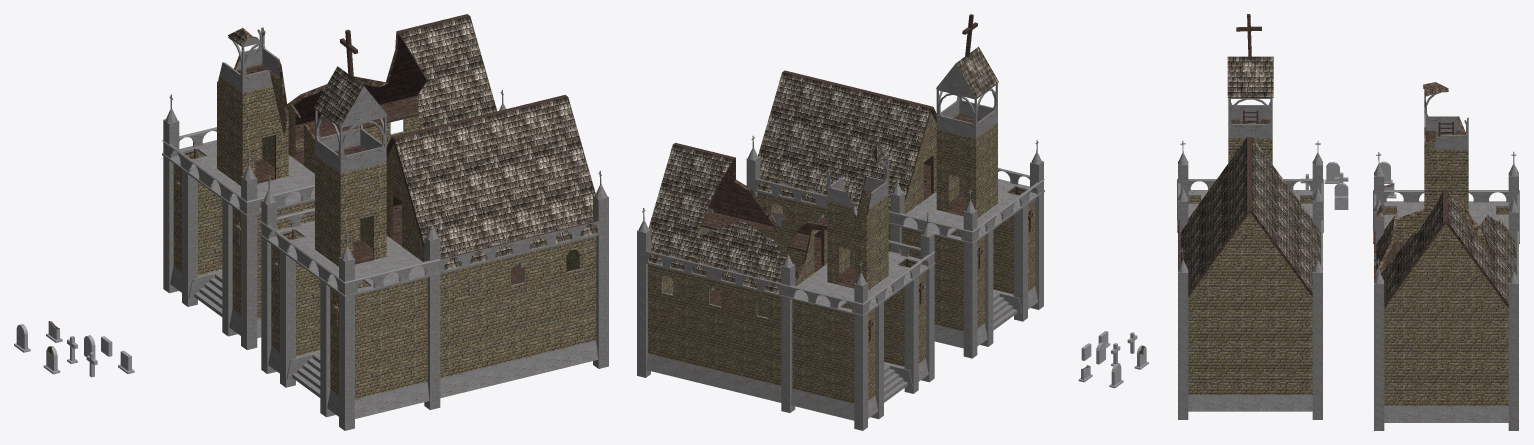
Rendered from Low-Poly_Church.glb.
3 views of the same model, side by side, from view 1: azimuth 30°, elevation 25°; view 2: azimuth 150°, elevation 25°; view 3: azimuth 270°, elevation 25° (orthographic). The views are drawn at different scales.
Visible parts, largest first — view 1: OldChurch1_Horror_Wall_4_Mat_0, OldChurch1_concrete03_Mat_0, OldChurch1_roof12_Mat.004_0, OldChurch2_concrete03_Mat.001_0, OldChurch2_Horror_Wall_4_Mat.001_0, OldChurch2_roof12_Mat.005_0, OldChurch2_wood01_Mat.005_0, OldChurch1_wood01_Mat.004_0, OldChurch2_rock03_Mat_0; view 2: OldChurch2_Horror_Wall_4_Mat.001_0, OldChurch2_concrete03_Mat.001_0, OldChurch1_roof12_Mat.004_0, OldChurch1_concrete03_Mat_0, OldChurch1_Horror_Wall_4_Mat_0, OldChurch2_roof12_Mat.005_0, OldChurch2_wood01_Mat.005_0, OldChurch1_wood01_Mat.004_0, OldChurch2_rock03_Mat_0; view 3: OldChurch2_Horror_Wall_4_Mat.001_0, OldChurch1_Horror_Wall_4_Mat_0, OldChurch1_roof12_Mat.004_0, OldChurch2_concrete03_Mat.001_0, OldChurch1_concrete03_Mat_0, OldChurch2_roof12_Mat.005_0, OldChurch1_wood01_Mat.004_0, OldChurch2_wood01_Mat.005_0, OldChurch2_rock03_Mat_0.
Boxes of the visible parts, x1=… form: OldChurch1_Horror_Wall_4_Mat_0: x1=271, y1=144, x2=596, y2=399; OldChurch1_concrete03_Mat_0: x1=260, y1=86, x2=608, y2=430; OldChurch1_roof12_Mat.004_0: x1=314, y1=66, x2=596, y2=269; OldChurch2_concrete03_Mat.001_0: x1=162, y1=28, x2=505, y2=349; OldChurch2_Horror_Wall_4_Mat.001_0: x1=173, y1=75, x2=420, y2=318; OldChurch2_roof12_Mat.005_0: x1=228, y1=16, x2=496, y2=129; OldChurch2_wood01_Mat.005_0: x1=176, y1=14, x2=469, y2=245; OldChurch1_wood01_Mat.004_0: x1=274, y1=29, x2=597, y2=326; OldChurch2_rock03_Mat_0: x1=234, y1=27, x2=427, y2=141; OldChurch2_Horror_Wall_4_Mat.001_0: x1=648, y1=191, x2=925, y2=403; OldChurch2_concrete03_Mat.001_0: x1=637, y1=152, x2=935, y2=430; OldChurch1_roof12_Mat.004_0: x1=758, y1=46, x2=998, y2=211; OldChurch1_concrete03_Mat_0: x1=746, y1=63, x2=1044, y2=358; OldChurch1_Horror_Wall_4_Mat_0: x1=757, y1=112, x2=1035, y2=331; OldChurch2_roof12_Mat.005_0: x1=648, y1=144, x2=889, y2=293; OldChurch2_wood01_Mat.005_0: x1=672, y1=143, x2=923, y2=341; OldChurch1_wood01_Mat.004_0: x1=782, y1=14, x2=1032, y2=269; OldChurch2_rock03_Mat_0: x1=695, y1=147, x2=876, y2=278; OldChurch2_Horror_Wall_4_Mat.001_0: x1=1384, y1=132, x2=1508, y2=405; OldChurch1_Horror_Wall_4_Mat_0: x1=1188, y1=121, x2=1312, y2=394; OldChurch1_roof12_Mat.004_0: x1=1180, y1=56, x2=1320, y2=292; OldChurch2_concrete03_Mat.001_0: x1=1373, y1=90, x2=1519, y2=430; OldChurch1_concrete03_Mat_0: x1=1177, y1=98, x2=1323, y2=419; OldChurch2_roof12_Mat.005_0: x1=1376, y1=85, x2=1516, y2=303; OldChurch1_wood01_Mat.004_0: x1=1178, y1=14, x2=1312, y2=296; OldChurch2_wood01_Mat.005_0: x1=1374, y1=121, x2=1508, y2=307; OldChurch2_rock03_Mat_0: x1=1374, y1=82, x2=1495, y2=271.
Bounding box in the file's own units: 28.53 × 20.49 × 20.08.
Materials: 7 (6 with a texture image).
